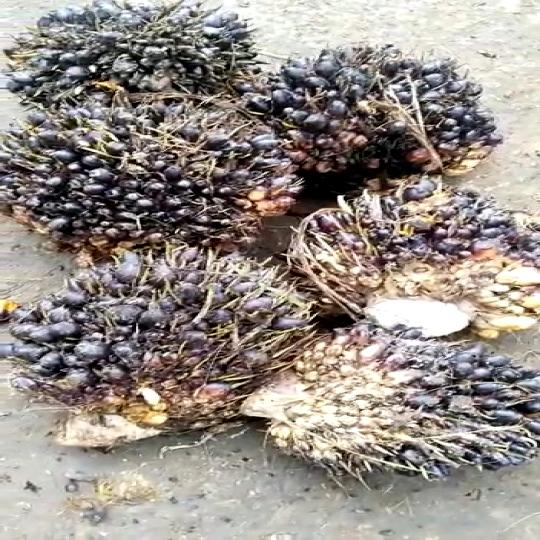mentah: (18, 234, 326, 462), (233, 324, 526, 495), (4, 96, 285, 260), (280, 179, 540, 327), (253, 46, 491, 188), (0, 0, 268, 109)
